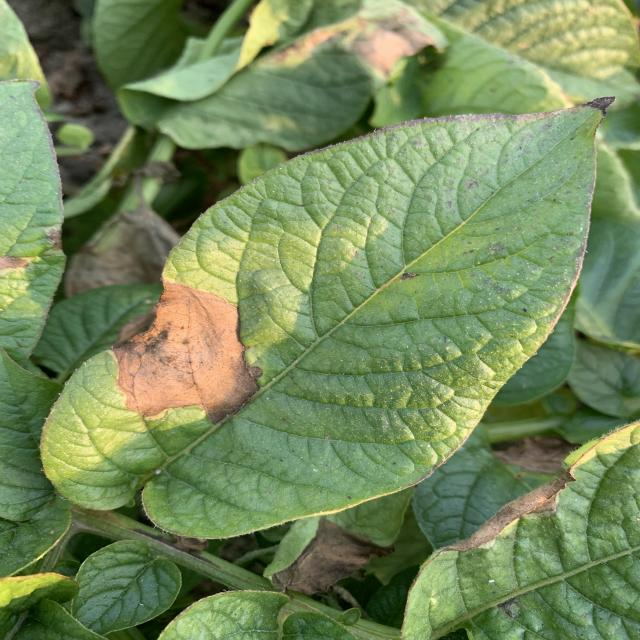lateblight: (113, 281, 260, 422), (443, 491, 555, 551)
